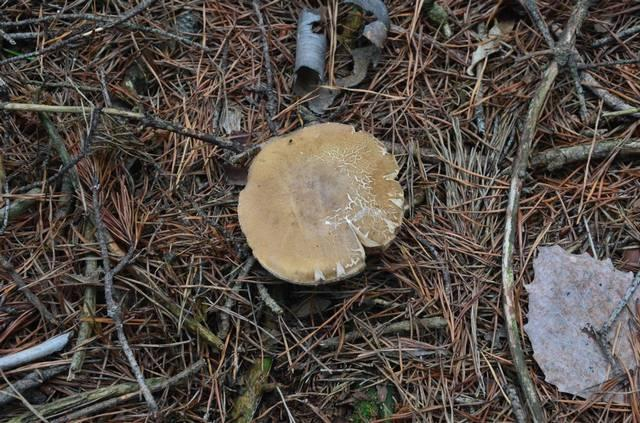Non-edible Mushroom: (236, 120, 406, 287)
